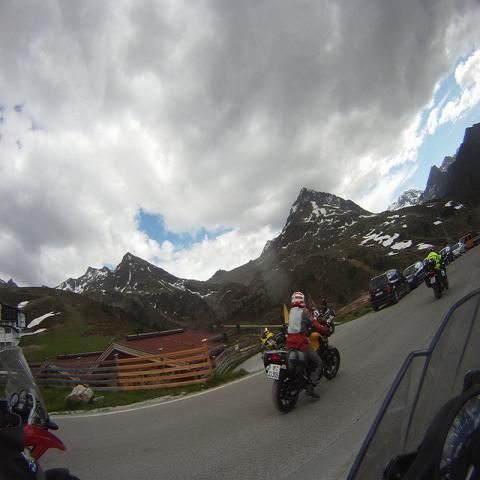car: (369, 268, 411, 312), (404, 260, 425, 289), (439, 245, 455, 266), (452, 241, 466, 260)
motorcycle: (0, 344, 68, 479), (262, 329, 341, 412), (423, 259, 449, 301), (324, 309, 335, 334)
truck: (458, 232, 480, 250)
